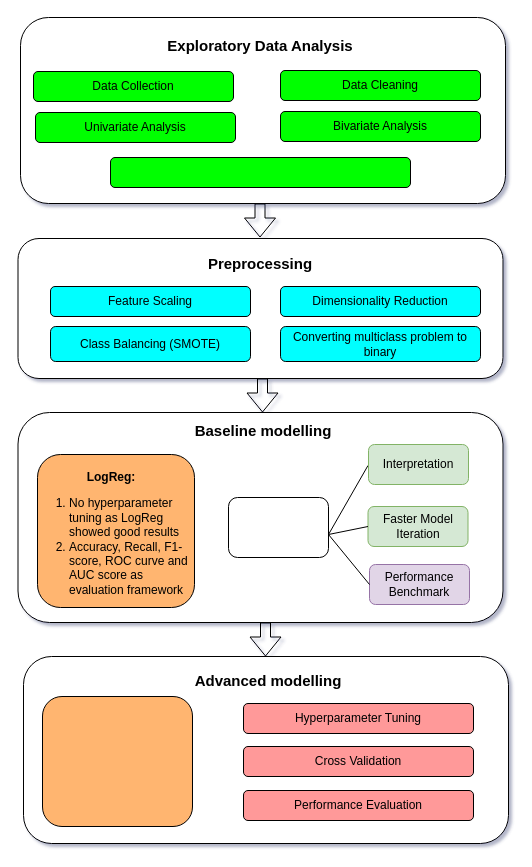
The diagram is 532 pixels wide and 867 high, and some of its shapes have lost their labels. Here are the shapes that lost their labels. From the top down, the box of each, then its label:
(110, 156, 410, 188): Data Vizualisation
(228, 496, 328, 558): Why Baseline Model?
(42, 696, 192, 826): ML models: 1. LogReg 2. Decision Tree 3. XGBoost 4. Neural Network
